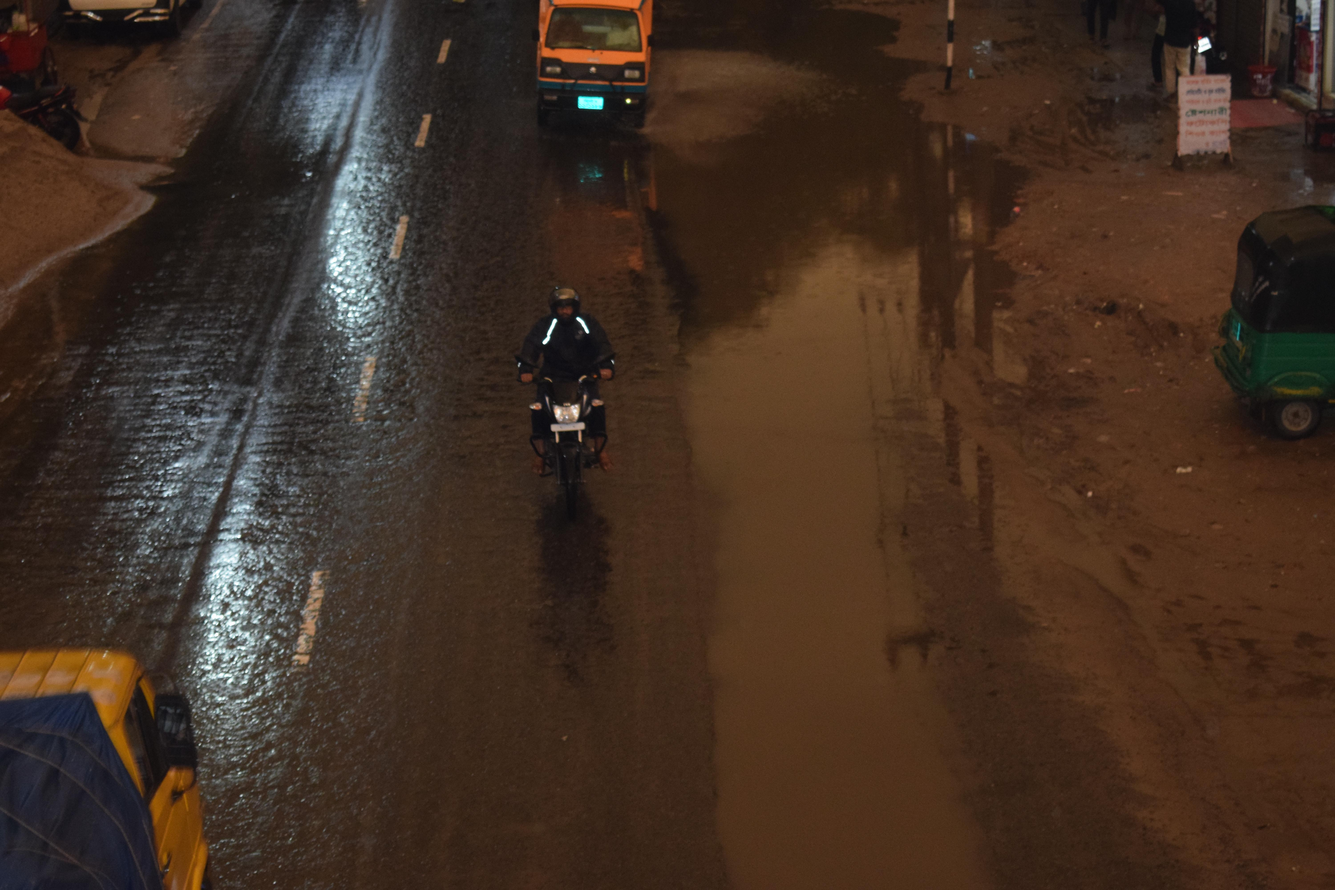Bike: (476, 249, 658, 534)
Truck: (0, 572, 281, 890), (501, 0, 695, 160)
